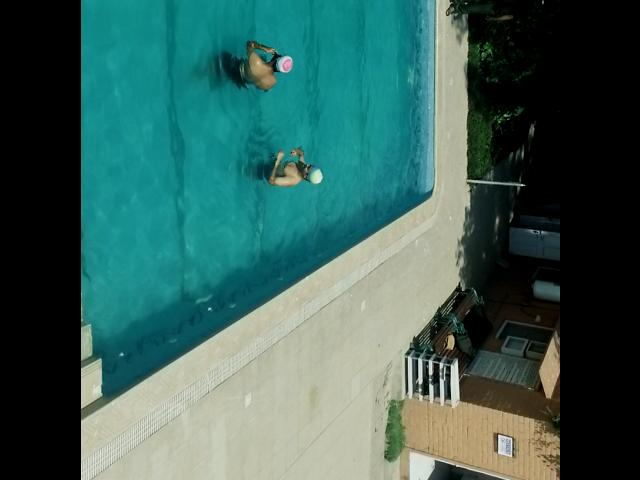out of water: (441, 0, 549, 28)
swimming: (208, 34, 294, 106), (250, 144, 324, 189)
